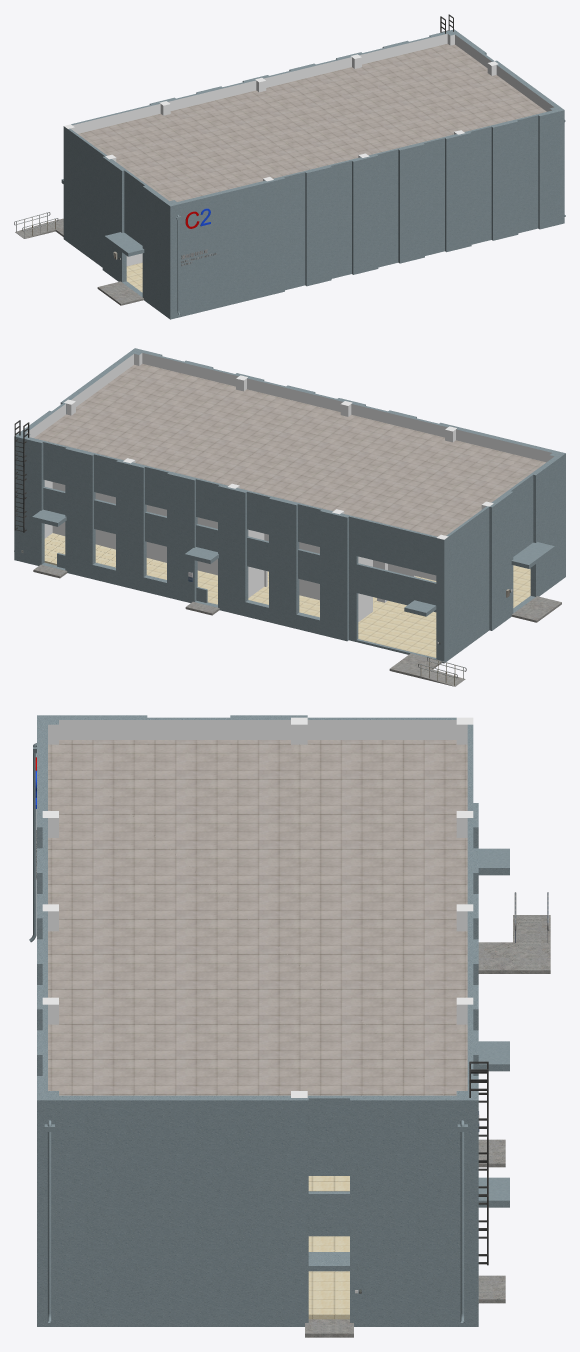
File: C2_MoNiHeCaiLiaoKu.FBX
3 views of the same model, one above another, from view 1: azimuth 30°, elevation 25°; view 2: azimuth 150°, elevation 25°; view 3: azimuth 270°, elevation 25° (orthographic). The views are drawn at different scales.
Parts seen in each view (by area): view 1: C2_MoNiHeCaiLiaoKu33, C2_MoNiHeCaiLiaoKu34, C2_MoNiHeCaiLiaoKu10, C2_MoNiHeCaiLiaoKu45, C2_MoNiHeCaiLiaoKu12, C2_MoNiHeCaiLiaoKu41; view 2: C2_MoNiHeCaiLiaoKu33, C2_MoNiHeCaiLiaoKu34, C2_MoNiHeCaiLiaoKu41, C2_MoNiHeCaiLiaoKu42, C2_MoNiHeCaiLiaoKu45, C2_MoNiHeCaiLiaoKu12, C2_MoNiHeCaiLiaoKu06, C2_MoNiHeCaiLiaoKu10; view 3: C2_MoNiHeCaiLiaoKu34, C2_MoNiHeCaiLiaoKu33, C2_MoNiHeCaiLiaoKu41, C2_MoNiHeCaiLiaoKu12, C2_MoNiHeCaiLiaoKu06, C2_MoNiHeCaiLiaoKu05, C2_MoNiHeCaiLiaoKu09, C2_MoNiHeCaiLiaoKu07, C2_MoNiHeCaiLiaoKu04.
Part boxes in pixels (x1=…): C2_MoNiHeCaiLiaoKu33: x1=61, y1=29, x2=564, y2=319; C2_MoNiHeCaiLiaoKu34: x1=78, y1=44, x2=546, y2=201; C2_MoNiHeCaiLiaoKu10: x1=97, y1=281, x2=143, y2=305; C2_MoNiHeCaiLiaoKu45: x1=63, y1=124, x2=74, y2=241; C2_MoNiHeCaiLiaoKu12: x1=15, y1=218, x2=63, y2=238; C2_MoNiHeCaiLiaoKu41: x1=126, y1=262, x2=142, y2=292; C2_MoNiHeCaiLiaoKu33: x1=14, y1=348, x2=565, y2=659; C2_MoNiHeCaiLiaoKu34: x1=34, y1=364, x2=545, y2=536; C2_MoNiHeCaiLiaoKu41: x1=44, y1=533, x2=530, y2=657; C2_MoNiHeCaiLiaoKu42: x1=52, y1=482, x2=436, y2=621; C2_MoNiHeCaiLiaoKu45: x1=436, y1=534, x2=448, y2=663; C2_MoNiHeCaiLiaoKu12: x1=389, y1=653, x2=465, y2=686; C2_MoNiHeCaiLiaoKu06: x1=14, y1=420, x2=29, y2=532; C2_MoNiHeCaiLiaoKu10: x1=511, y1=596, x2=561, y2=622; C2_MoNiHeCaiLiaoKu34: x1=48, y1=740, x2=467, y2=1095; C2_MoNiHeCaiLiaoKu33: x1=37, y1=715, x2=509, y2=1326; C2_MoNiHeCaiLiaoKu41: x1=308, y1=1176, x2=349, y2=1319; C2_MoNiHeCaiLiaoKu12: x1=478, y1=915, x2=550, y2=973; C2_MoNiHeCaiLiaoKu06: x1=469, y1=1061, x2=488, y2=1265; C2_MoNiHeCaiLiaoKu05: x1=457, y1=1120, x2=467, y2=1322; C2_MoNiHeCaiLiaoKu09: x1=44, y1=1120, x2=54, y2=1322; C2_MoNiHeCaiLiaoKu07: x1=305, y1=1319, x2=353, y2=1337; C2_MoNiHeCaiLiaoKu04: x1=478, y1=1275, x2=505, y2=1303.
Bounding box in the file's own units: 3631 × 1016 × 1889.
